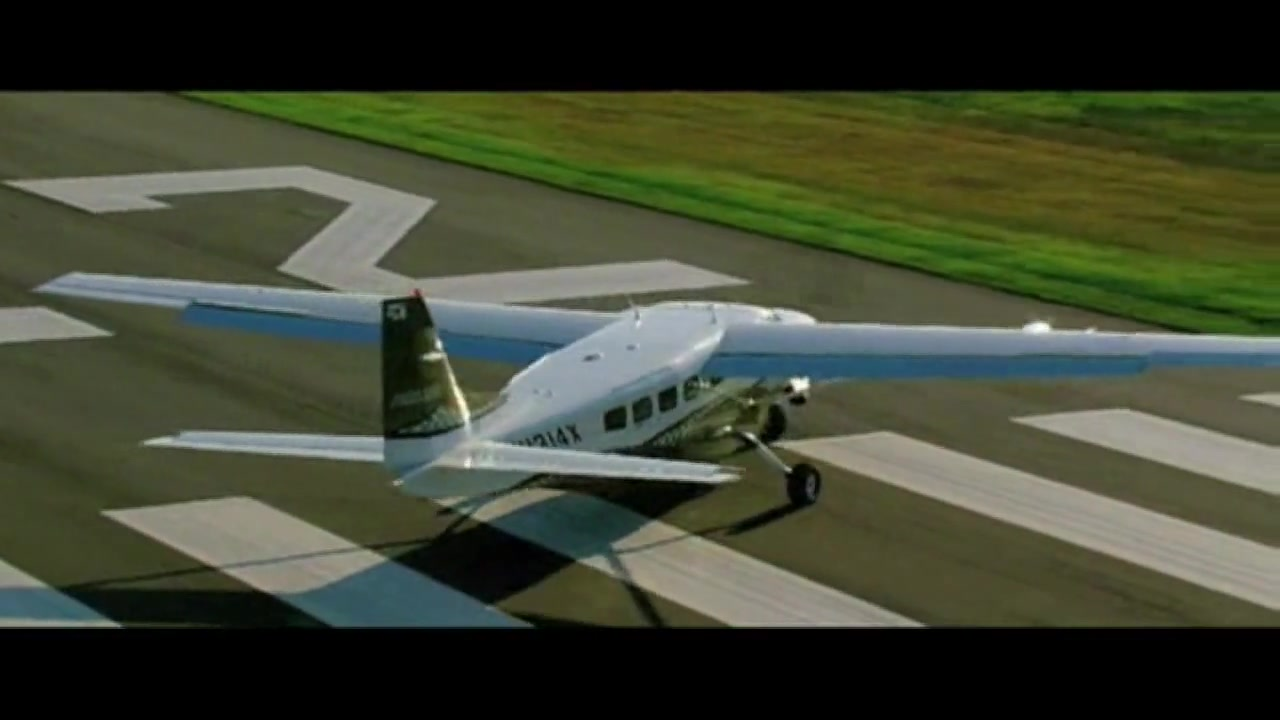aeroplane: (30, 271, 1280, 507)
